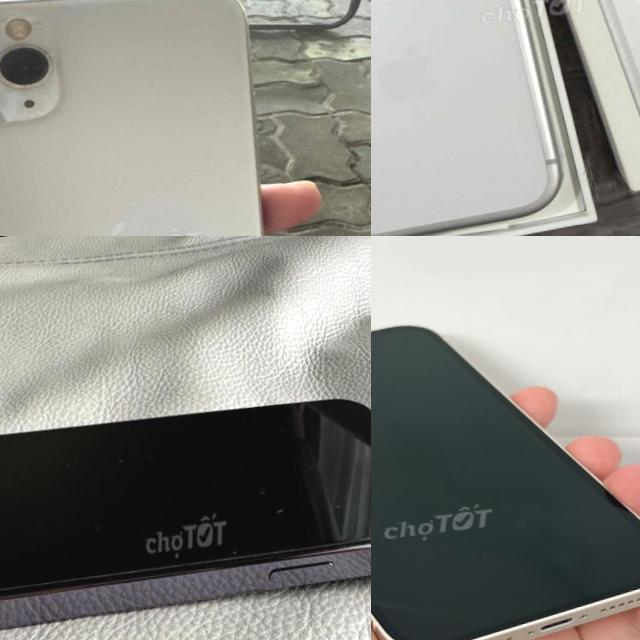scratch: (168, 540, 241, 562), (272, 500, 288, 525), (331, 494, 343, 514)
